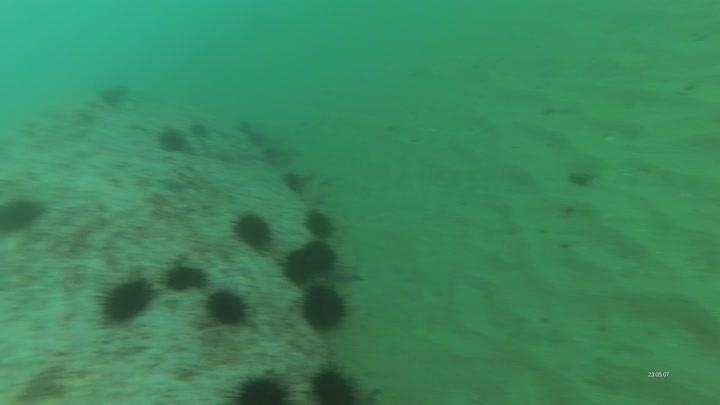echinus: (96, 275, 155, 326), (298, 283, 349, 334), (307, 363, 360, 404), (229, 372, 292, 404), (204, 287, 251, 329), (1, 194, 46, 237), (231, 210, 275, 251), (162, 261, 208, 295), (280, 246, 317, 286), (301, 240, 338, 275), (302, 208, 337, 240), (155, 125, 191, 155), (97, 81, 131, 110), (280, 169, 309, 195), (188, 119, 211, 140), (244, 128, 263, 146), (263, 145, 284, 161), (229, 119, 247, 131)
starfish: (327, 261, 366, 287), (347, 382, 384, 404), (156, 172, 193, 193)
